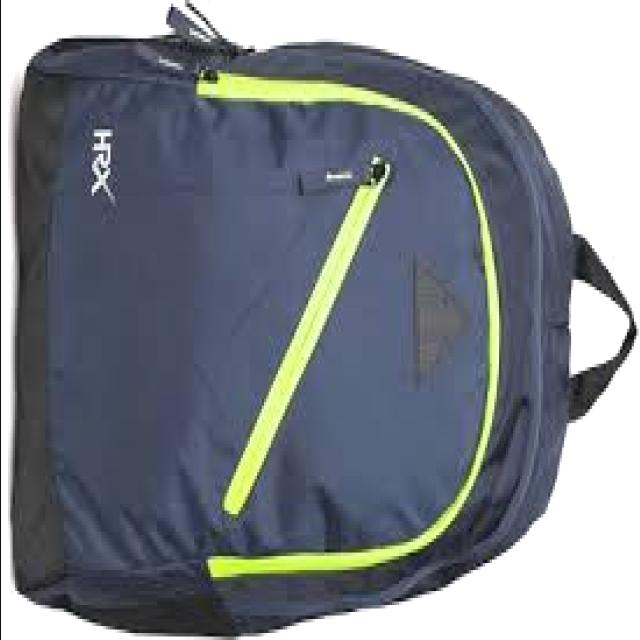backpack: (13, 2, 639, 638)
